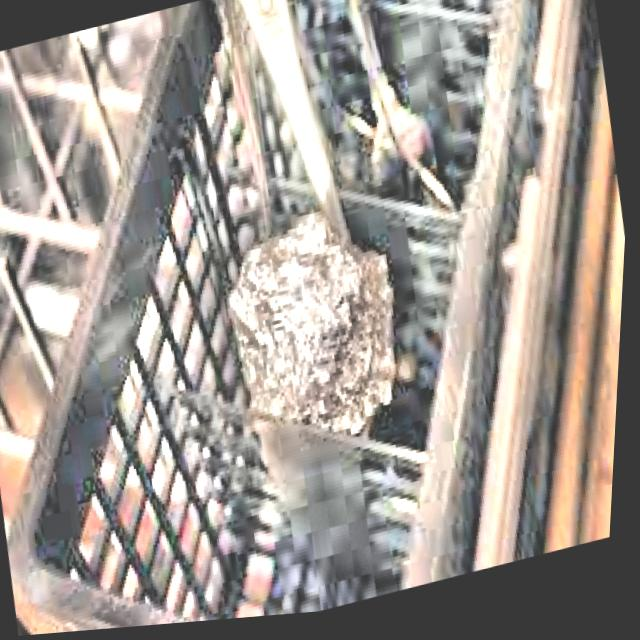Foil: (196, 192, 428, 483)
